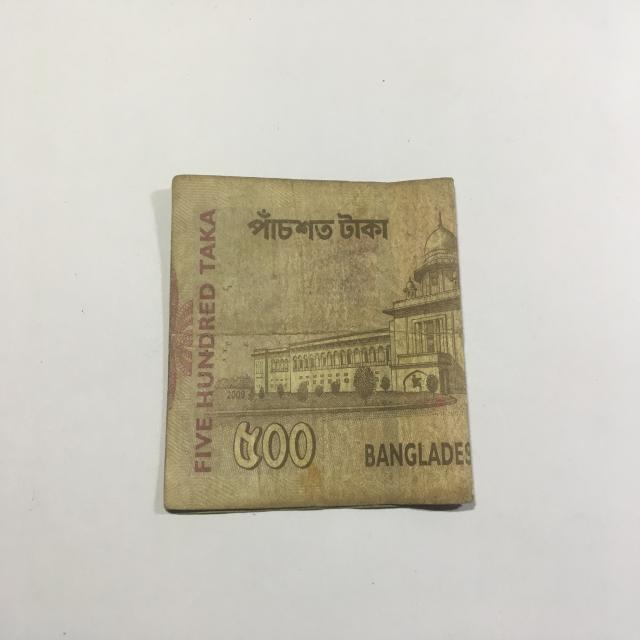Taka: (170, 163, 473, 525)
